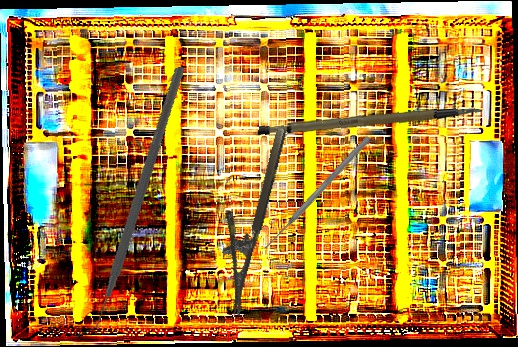Chopper: (15, 65, 242, 339)
Needle Holder: (202, 120, 290, 317)
Pusher: (261, 134, 372, 253)
Scalpel Handle: (258, 95, 482, 151)
